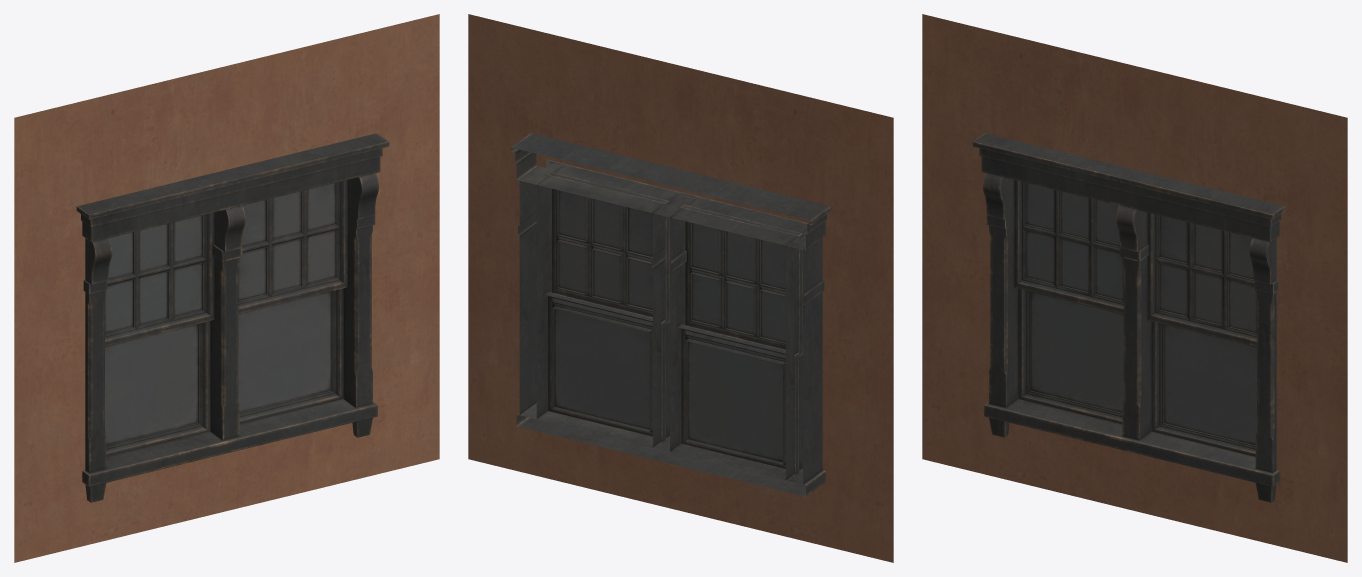
File: city_facade.glb
3 views of the same model, side by side, from view 1: azimuth 30°, elevation 25°; view 2: azimuth 150°, elevation 25°; view 3: azimuth 330°, elevation 25° (orthographic).
Visible parts, largest first — view 1: wall_window_centered_large_02, window_centered_large_02; view 2: wall_window_centered_large_02, window_centered_large_02; view 3: wall_window_centered_large_02, window_centered_large_02.
Part boxes in pixels (<box>): wall_window_centered_large_02: <box>14,14,439,562</box>; window_centered_large_02: <box>76,133,389,502</box>; wall_window_centered_large_02: <box>468,14,893,562</box>; window_centered_large_02: <box>511,133,831,500</box>; wall_window_centered_large_02: <box>922,14,1347,562</box>; window_centered_large_02: <box>972,133,1285,502</box>.
Bounding box in the file's own units: 3 × 3 × 0.39.
3 materials, 3 textured.
